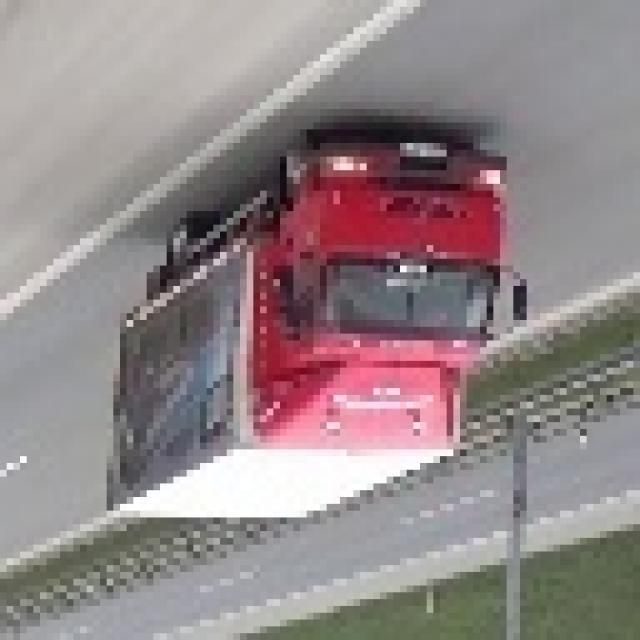truck: (244, 108, 536, 453)
